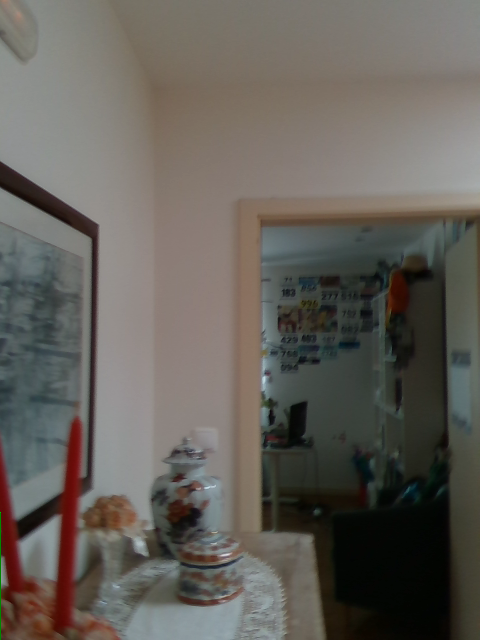open: (235, 188, 479, 639)
